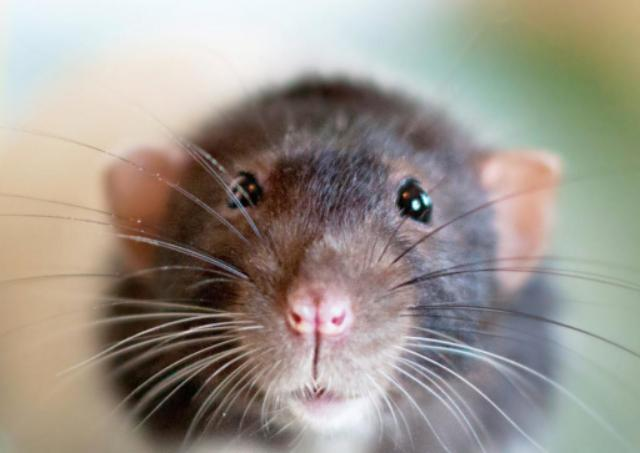rat: (72, 55, 586, 452)
